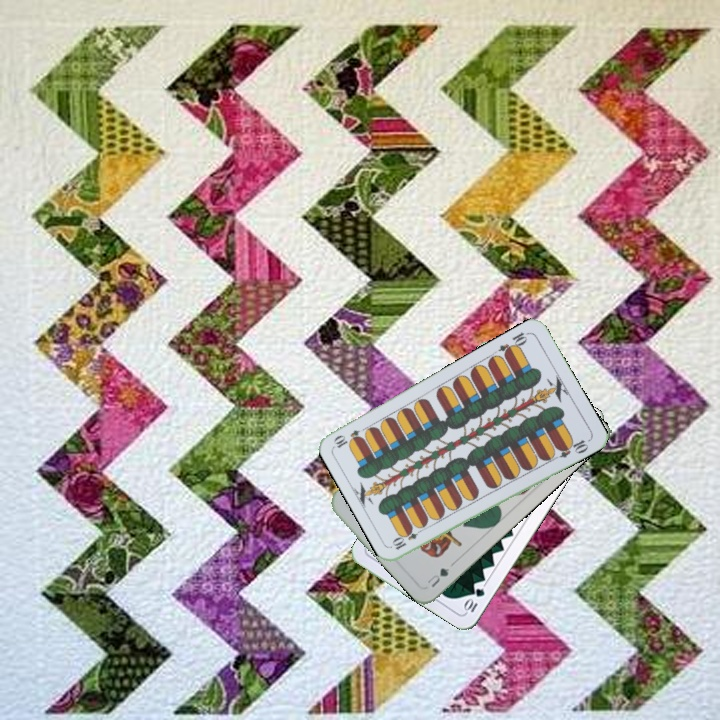E10: (495, 328, 532, 359), (389, 523, 426, 552)
G10: (460, 584, 487, 615)
GU: (423, 564, 452, 590)
